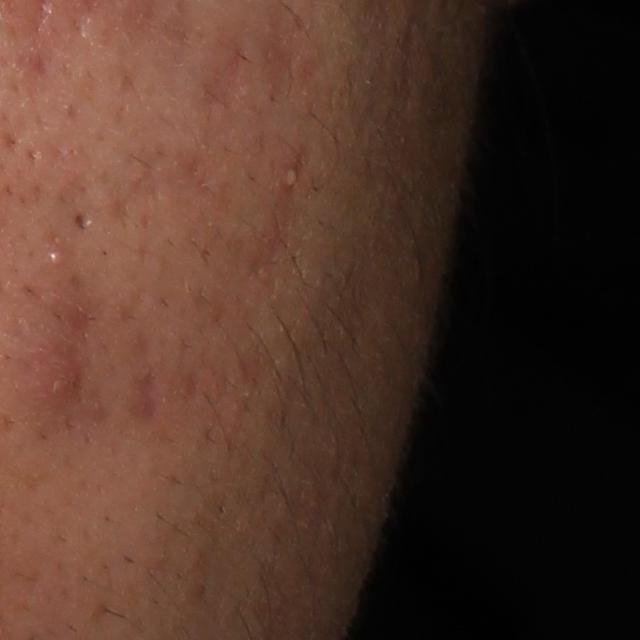atrophic_scar: (202, 49, 243, 111), (122, 372, 166, 424), (74, 212, 89, 234)
comedo: (49, 246, 67, 274)
papule: (19, 343, 90, 413)
